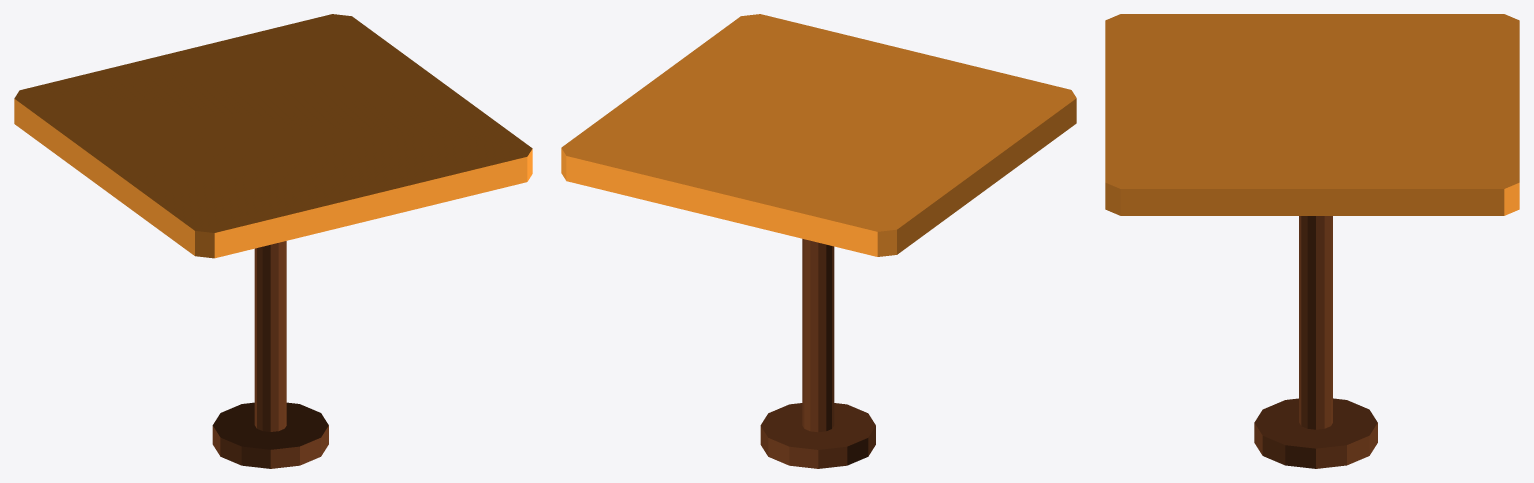
Rendered from Dining Table 1.fbx.
The picture shows the model from 3 angles, left to right: view 1: azimuth 30°, elevation 25°; view 2: azimuth 150°, elevation 25°; view 3: azimuth 270°, elevation 25°; orthographic projection. The views are drawn at different scales.
Visible parts, largest first — view 1: Node 0; view 2: Node 0; view 3: Node 0.
Part boxes in pixels (<box>): Node 0: <box>14,14,532,468</box>; Node 0: <box>561,14,1076,468</box>; Node 0: <box>1105,14,1519,468</box>.
Bounding box in the file's own units: 0.7589 × 0.6912 × 0.7589.
